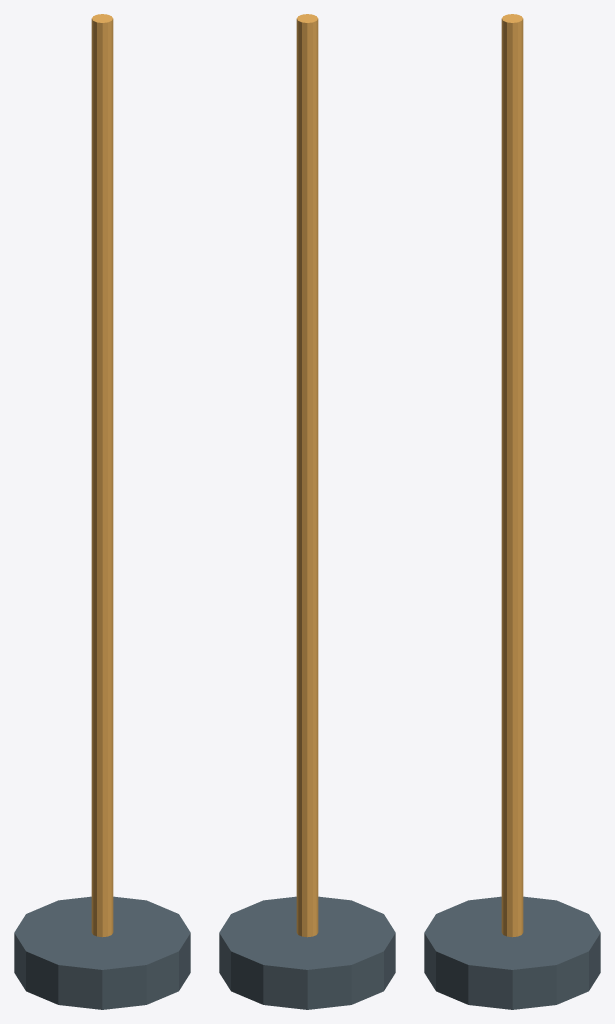
Rendered from slalom-pole-dea3f8f7.glb.
3 renders of one model, left to right at view 1: azimuth 30°, elevation 25°; view 2: azimuth 150°, elevation 25°; view 3: azimuth 270°, elevation 25°, orthographic.
Parts seen in each view (by area): view 1: slalom-pole; view 2: slalom-pole; view 3: slalom-pole.
Part boxes in pixels (x1,y1,x2,y2): slalom-pole: (14, 14, 190, 1009); slalom-pole: (219, 14, 395, 1009); slalom-pole: (424, 14, 600, 1009).
Bounding box in the file's own units: 0.28 × 1.67 × 0.28.
